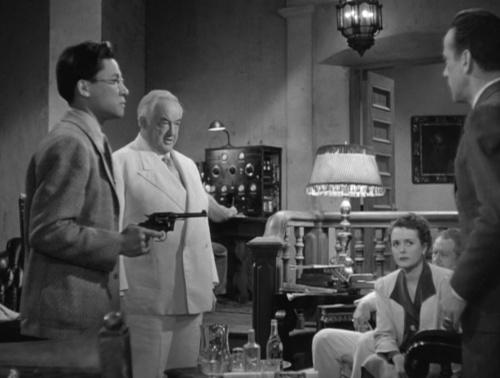Gun: (137, 209, 208, 243)
